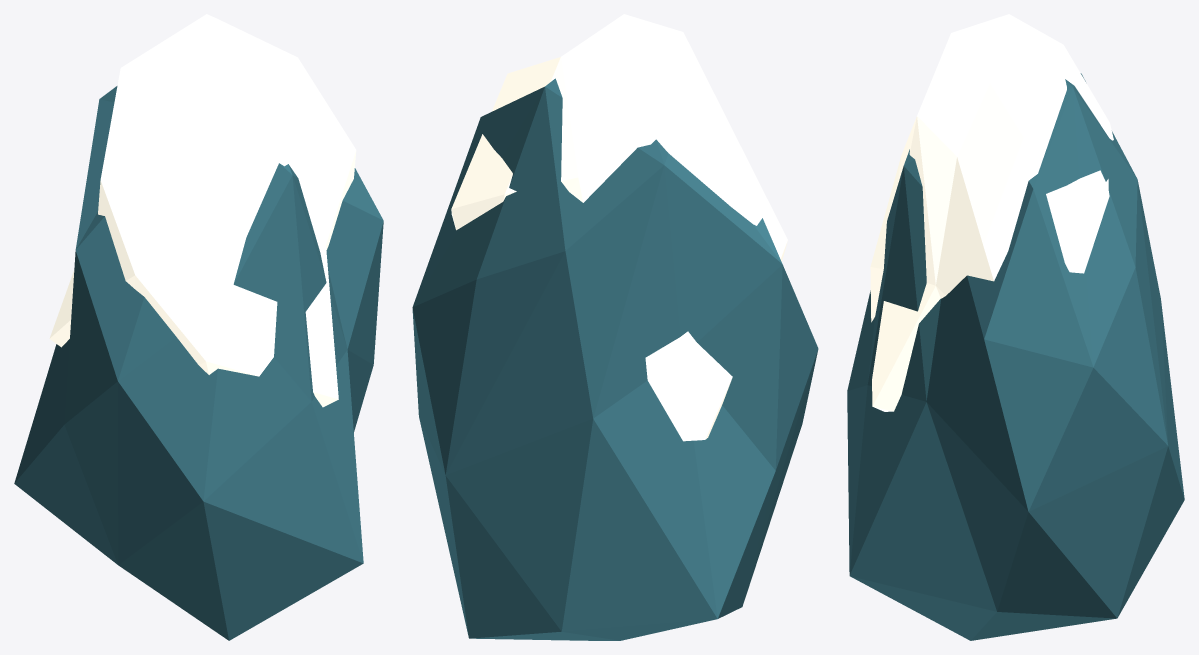
File: RockAsset3.fbx
3 views of the same model, side by side, from view 1: azimuth 30°, elevation 25°; view 2: azimuth 150°, elevation 25°; view 3: azimuth 270°, elevation 25° (orthographic). The views are drawn at different scales.
Parts seen in each view (by area): view 1: Rock3; view 2: Rock3; view 3: Rock3.
Part boxes in pixels (<box>): Rock3: <box>14,14,383,640</box>; Rock3: <box>412,14,818,640</box>; Rock3: <box>847,14,1184,640</box>.
Bounding box in the file's own units: 810 × 1450 × 732.
